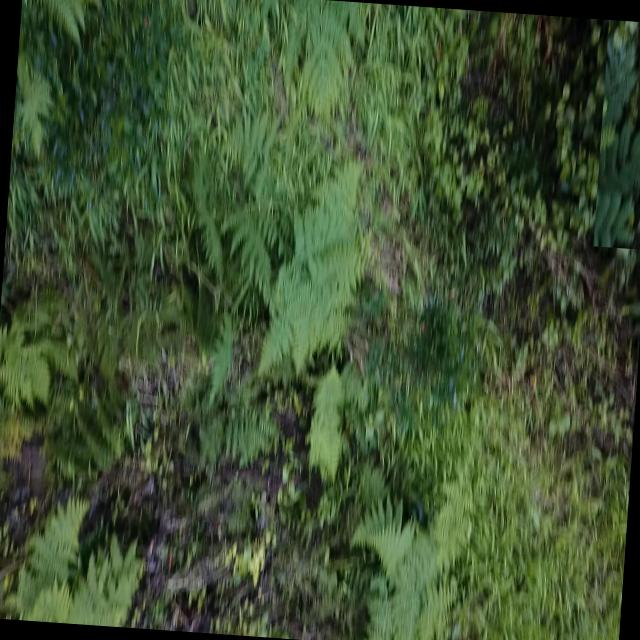Mysore-Thorn-Weed: (592, 19, 640, 249)
